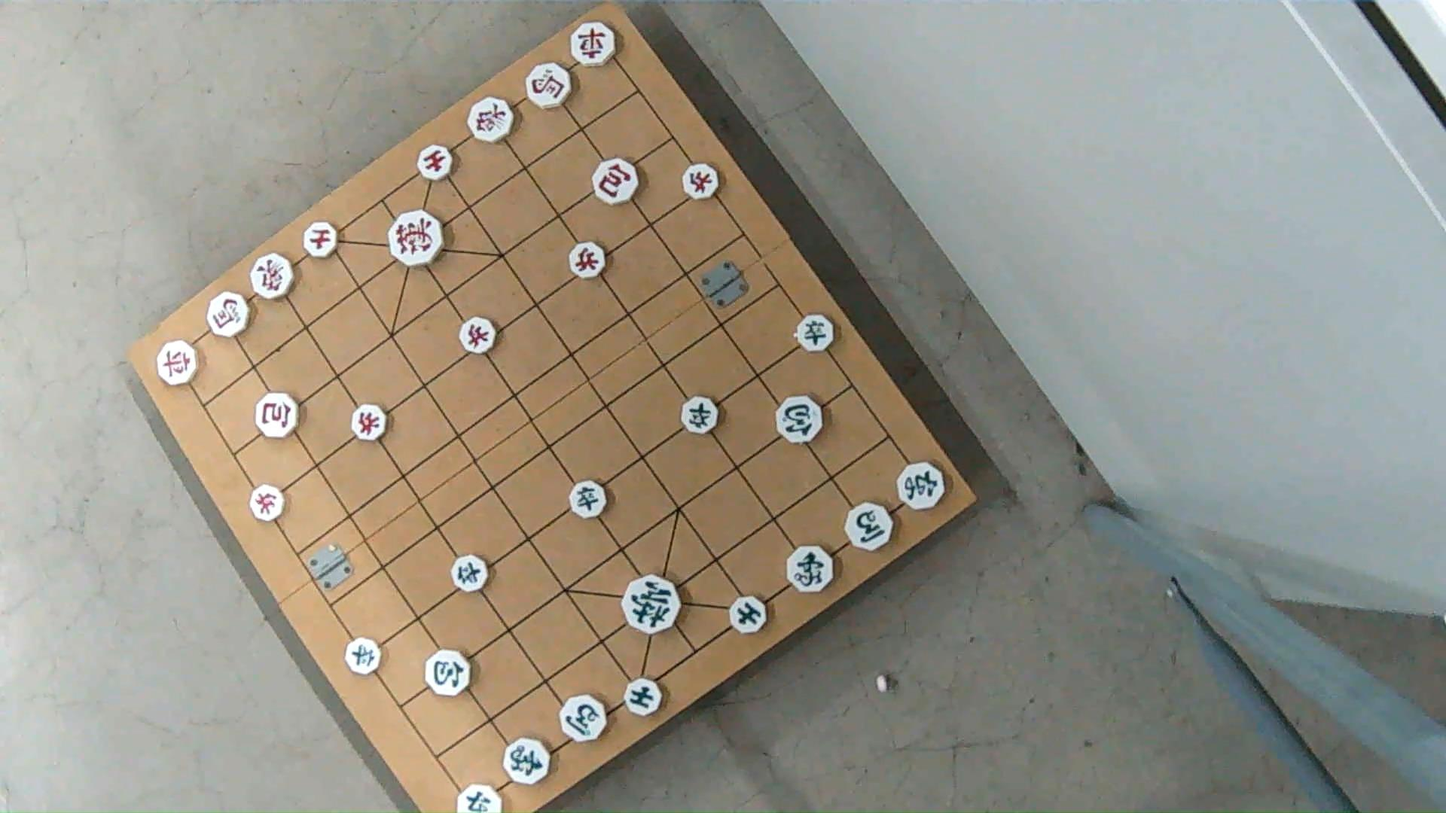cha_green: (898, 463, 945, 510)
cha_red: (569, 23, 618, 66), (157, 341, 200, 384)
jol_green: (344, 636, 383, 677), (793, 315, 837, 351), (450, 555, 490, 592), (566, 482, 608, 517), (682, 397, 722, 433)
jol_red: (567, 245, 608, 280), (457, 319, 499, 353), (349, 406, 389, 441), (680, 164, 720, 199), (248, 486, 286, 520)
ma_green: (844, 502, 895, 553), (561, 695, 608, 743)
ma_red: (523, 65, 572, 107), (205, 294, 251, 336)
po_green: (776, 397, 826, 443), (426, 651, 473, 695)
po_red: (592, 161, 641, 204), (254, 393, 301, 437)
sa_green: (729, 598, 770, 633), (625, 679, 664, 714)
sa_red: (301, 223, 340, 257), (419, 146, 454, 178)
sang_green: (503, 738, 552, 785), (787, 545, 833, 595)
sang_red: (466, 99, 516, 142), (252, 252, 295, 300)
wang_green: (624, 575, 682, 632)
wang_red: (388, 212, 445, 265)
